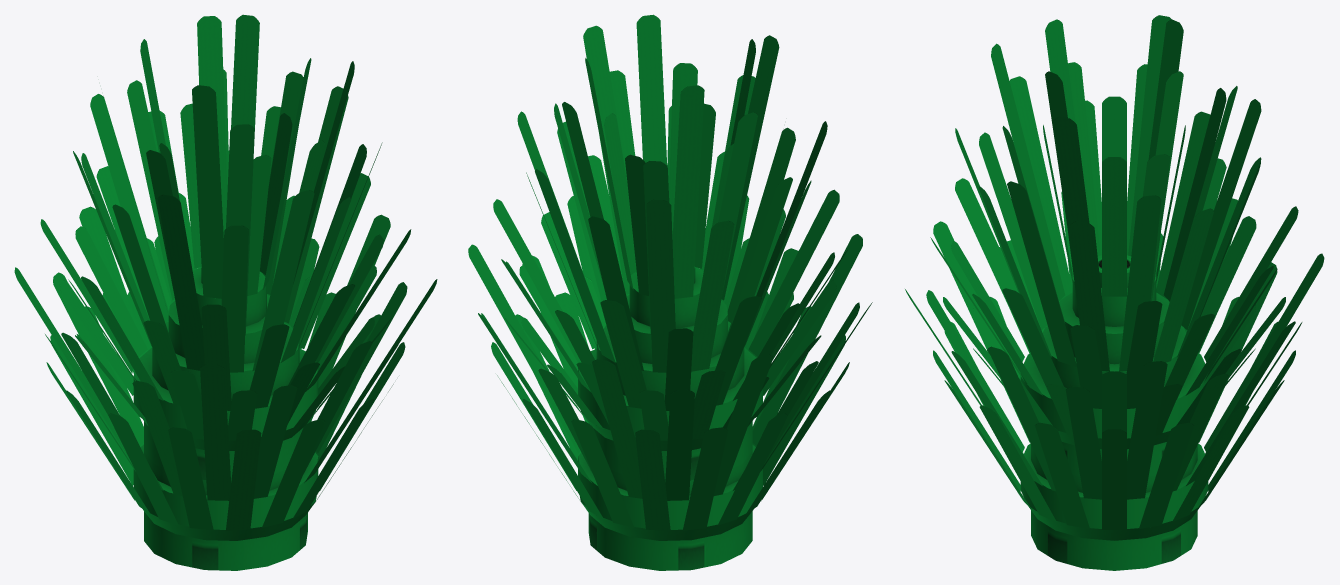
The model's file is bush.glb.
The picture shows the model from 3 angles, left to right: view 1: azimuth 30°, elevation 25°; view 2: azimuth 150°, elevation 25°; view 3: azimuth 270°, elevation 25°; orthographic projection.
Parts seen in each view (by area): view 1: bush; view 2: bush; view 3: bush.
Part boxes in pixels (box(x1,y1,x2,y2)): bush: box(14, 14, 437, 570); bush: box(468, 14, 872, 570); bush: box(905, 15, 1324, 570).
Bounding box in the file's own units: 0.2977 × 0.38 × 0.2977.
Materials: 1 (1 with a texture image).
